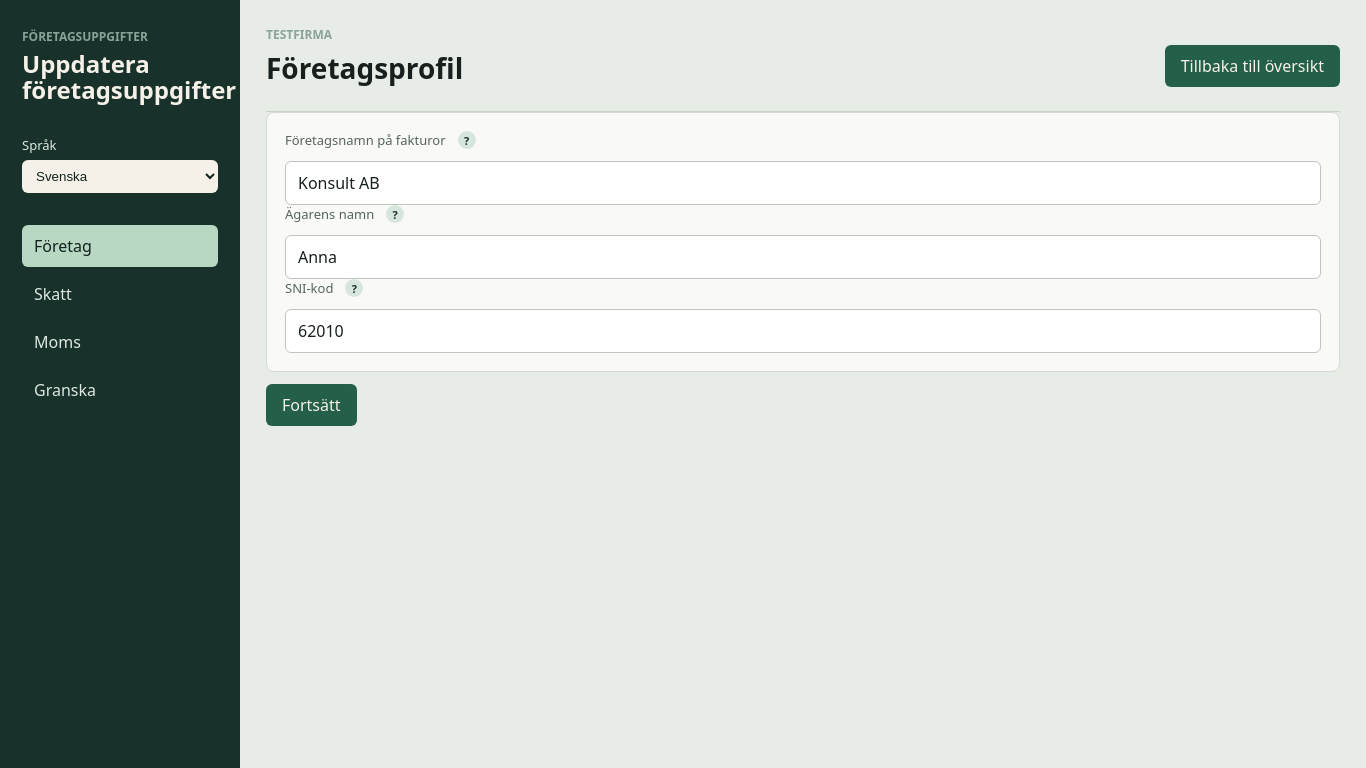
Test: OnboardingPage › reviews every persisted planning and voluntary VAT decision and edits the VAT step
Click the button "Granska". click: point(120, 390)
box: x1=22 y1=369 x2=218 y2=411
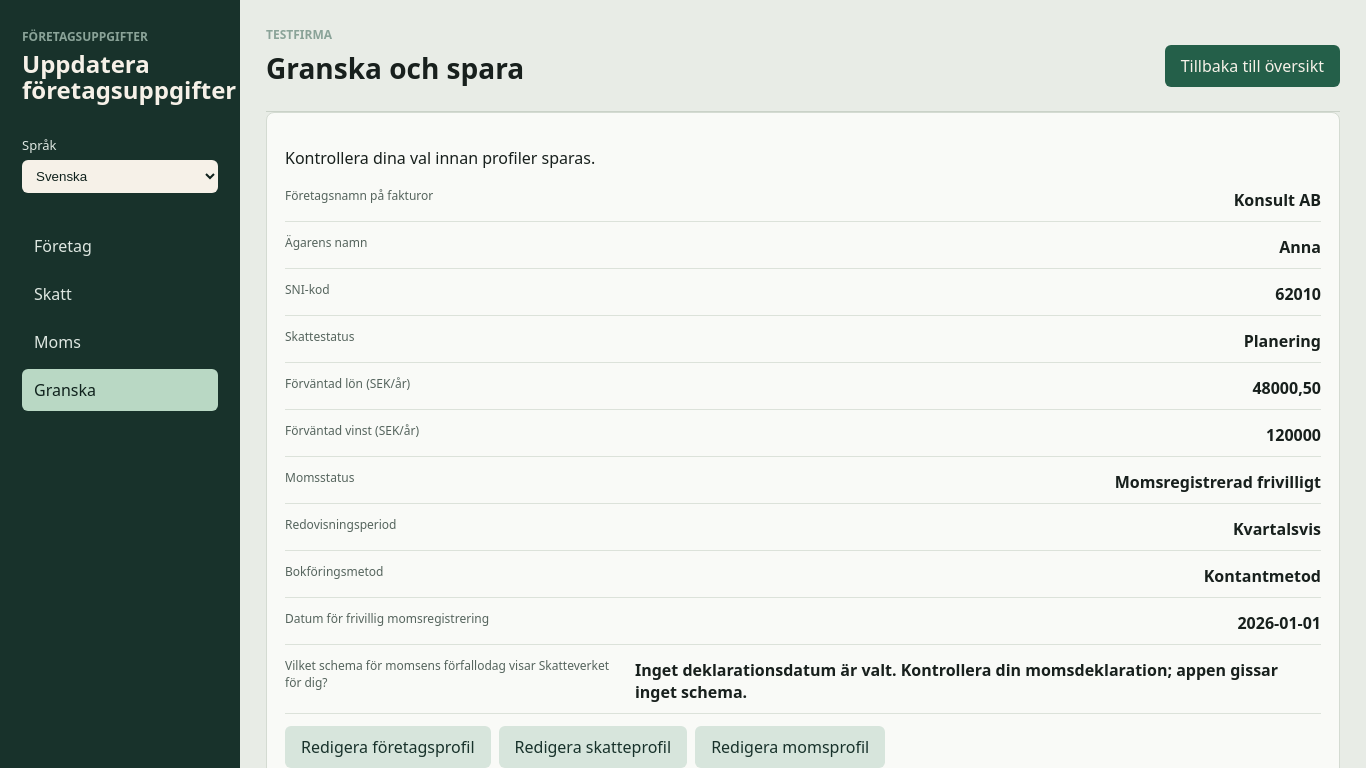
Expected: the text "Planering" is shown, x1=1244 y1=330 x2=1321 y2=352
Expected: the text "Momsregistrerad frivilligt" is shown, x1=1115 y1=471 x2=1321 y2=493
Expected: the text "48000,50" is shown, x1=1252 y1=377 x2=1321 y2=399
Click the button "Redigera momsprofil". click: point(790, 747)
box: x1=695 y1=726 x2=885 y2=767
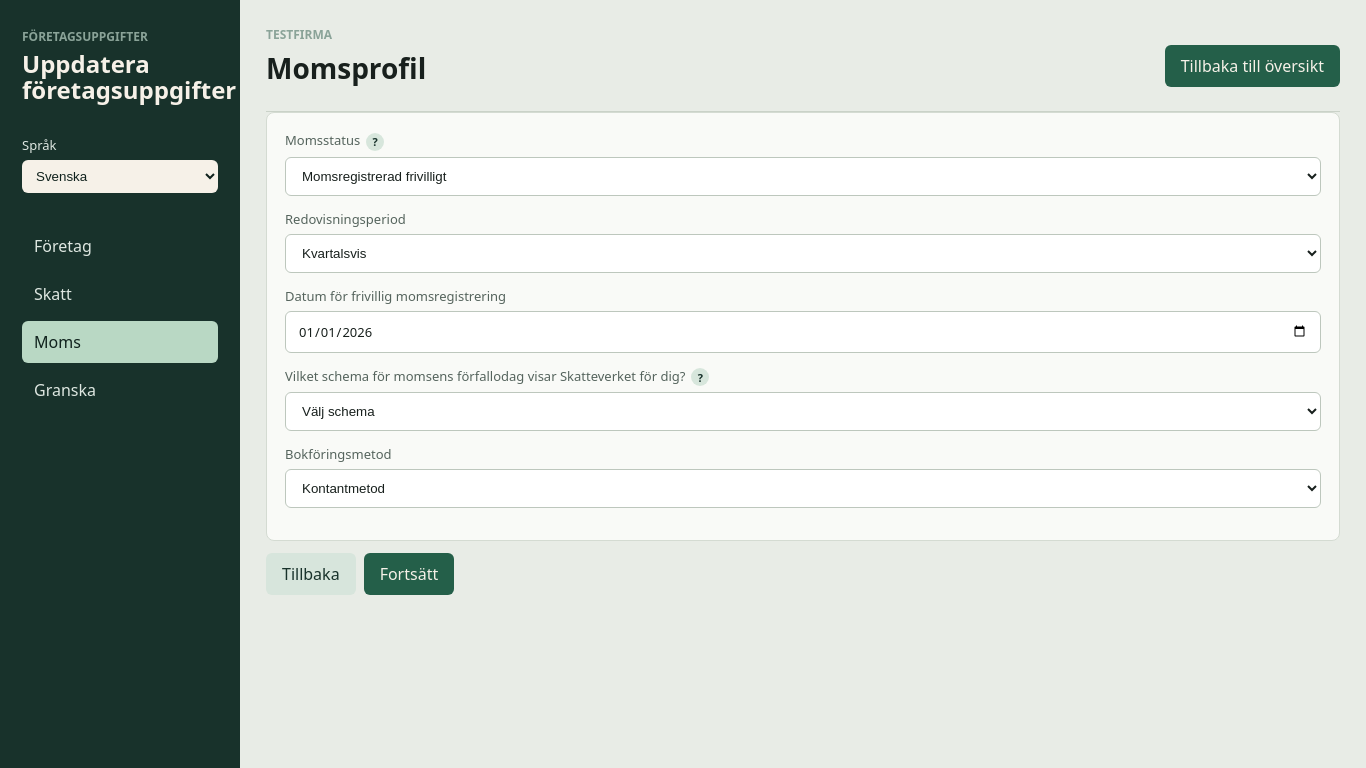
Expected: the dropdown named "Momsstatus" shows "Momsregistrerad frivilligt", x1=285 y1=156 x2=1321 y2=196
Expected: the dropdown named "Vilket schema för momsens förfallodag visar Skatteverket för dig?" shows "Välj schema", x1=285 y1=392 x2=1321 y2=431
Expected: the date field labelled "Datum för frivillig momsregistrering" holds "2026-01-01", x1=285 y1=310 x2=1321 y2=352
